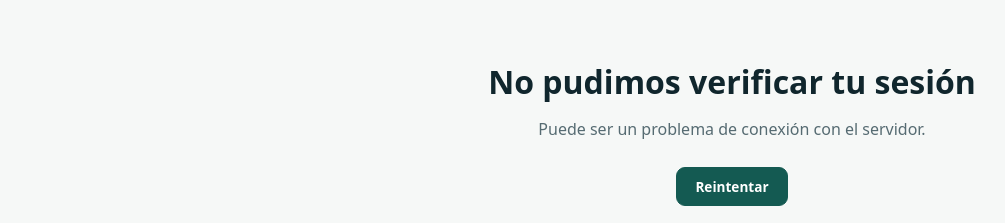
Test: AuthContext resiliencia de sesión › muestra el reintento ante un fallo de red y restaura la sesión al reintentar
expect the heading "No pudimos verificar tu sesión" is shown: met, box [476, 63, 988, 101]
expect the text "Panel de lanchero" is not shown: met
Click the button "Reintentar" at [732, 186], box [676, 167, 788, 206]
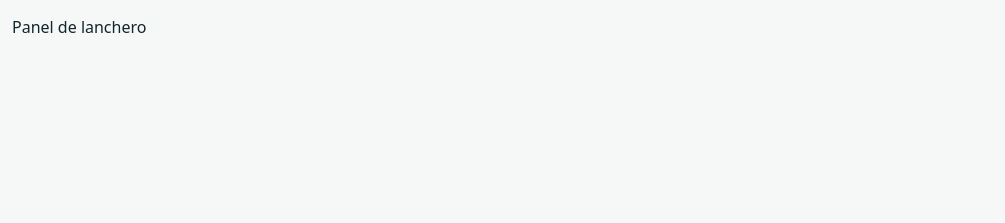
expect the text "Panel de lanchero" is shown: met, box [12, 16, 146, 38]
